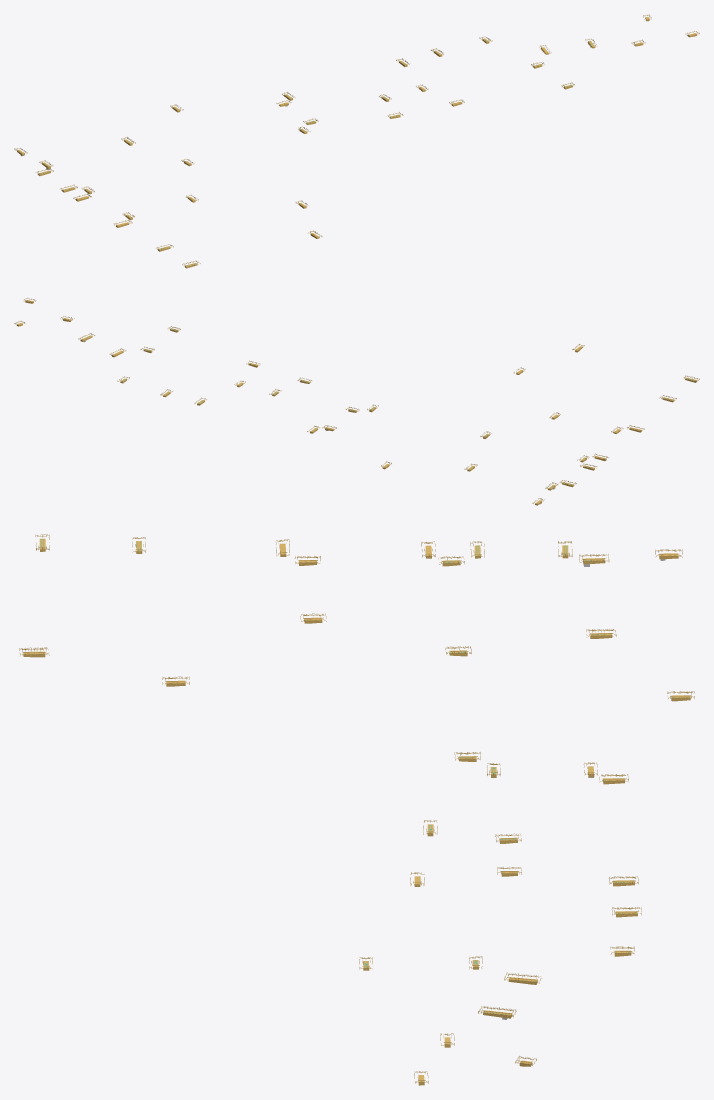
The model's file is 500125-CSSP001-780-XX-MD-ST-000338.glb.
3 views of the same model, one above another, from view 1: azimuth 30°, elevation 25°; view 2: azimuth 150°, elevation 25°; view 3: azimuth 270°, elevation 25° (orthographic). The views are drawn at different scales.
Size of the model in its own units: 508 by 17.35 by 254.
